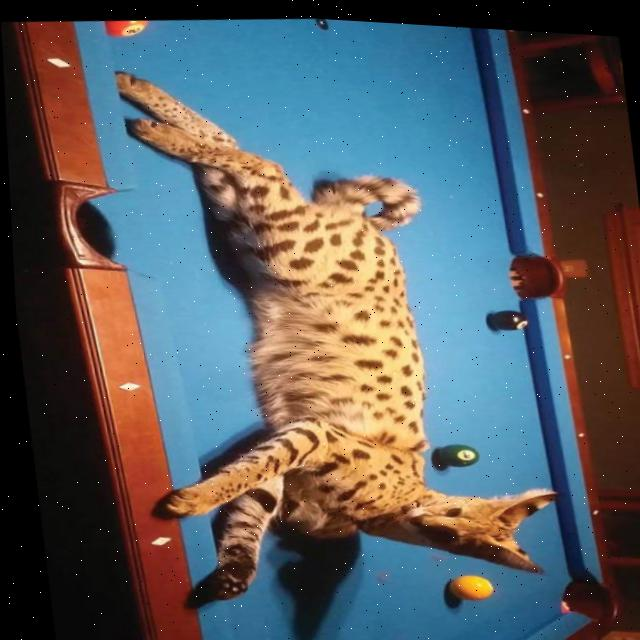Savannah: (97, 39, 567, 623)
